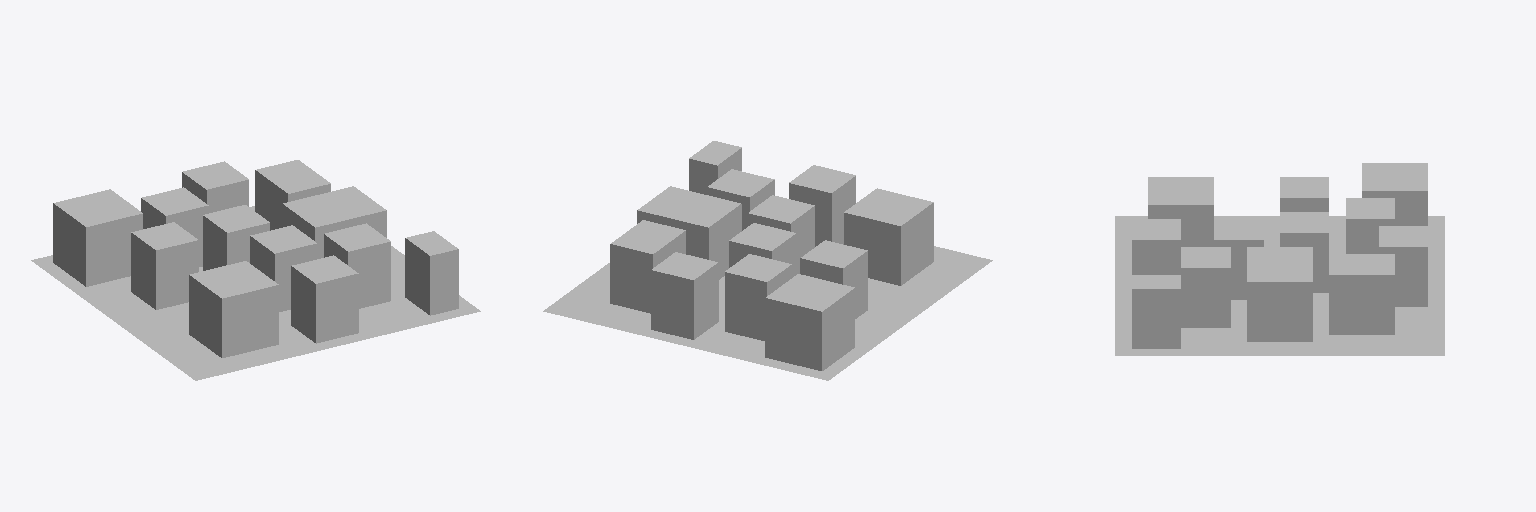
The model's file is scaledPlane.obj.
3 views of the same model, side by side, from view 1: azimuth 30°, elevation 25°; view 2: azimuth 150°, elevation 25°; view 3: azimuth 270°, elevation 25° (orthographic).
Parts seen in each view (by area): view 1: pPlane1; view 2: pPlane1; view 3: pPlane1.
Part boxes in pixels (bbox=[...]): pPlane1: bbox=[31, 160, 480, 380]; pPlane1: bbox=[543, 141, 992, 380]; pPlane1: bbox=[1115, 163, 1444, 355].
Size of the model in its own units: 17.81 by 3.56 by 17.81.